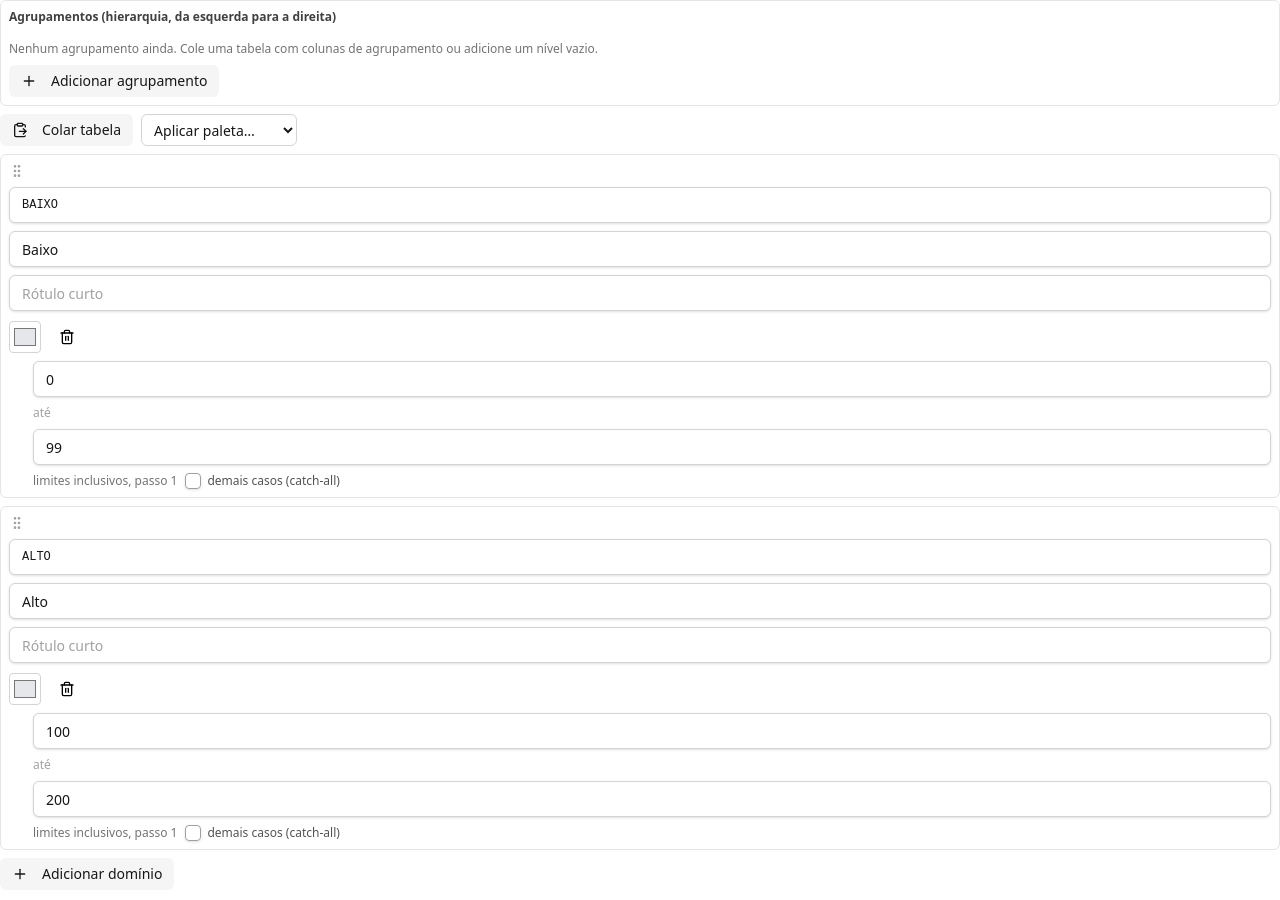
Test: DomainsEditor — agrupamentos hierárquicos (docs/07 §11) › adiciona um nível vazio manualmente e a versão entra no modo agrupado com faixas em branco
Expected: the number of fields named "Mínimo" is 2, [33,361,1271,397]; [33,713,1271,749]
Expected: the text "Nenhum agrupamento ainda" is shown, [9,40,598,57]
Click the button "Adicionar agrupamento" at (114, 81), box [9,65,219,97]
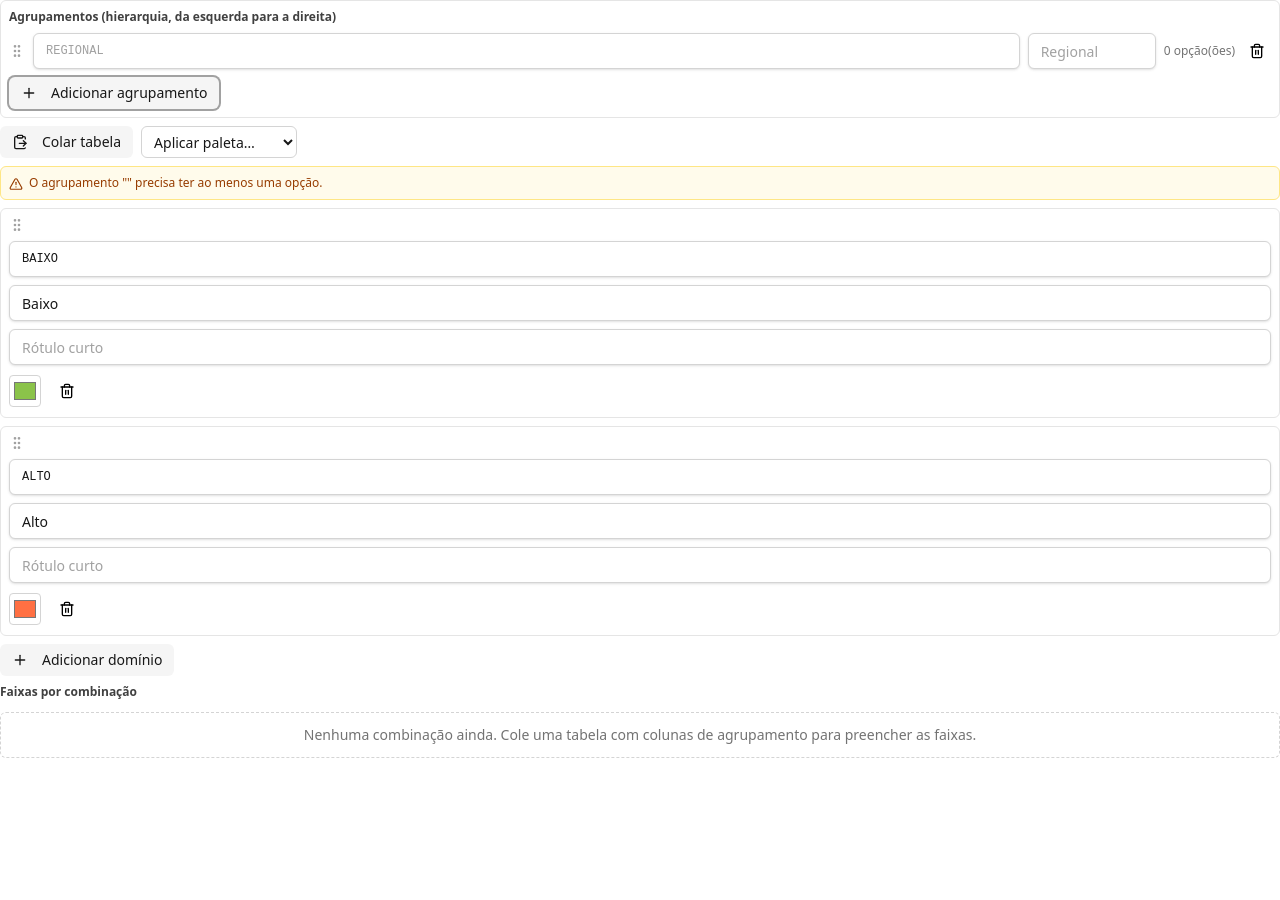
Expected: the field labelled "Mínimo" is gone
Expected: the text "Faixas por combinação" is shown, [0,683,137,700]
Expected: the text "Nenhuma combinação ainda" is shown, [304,725,976,744]
